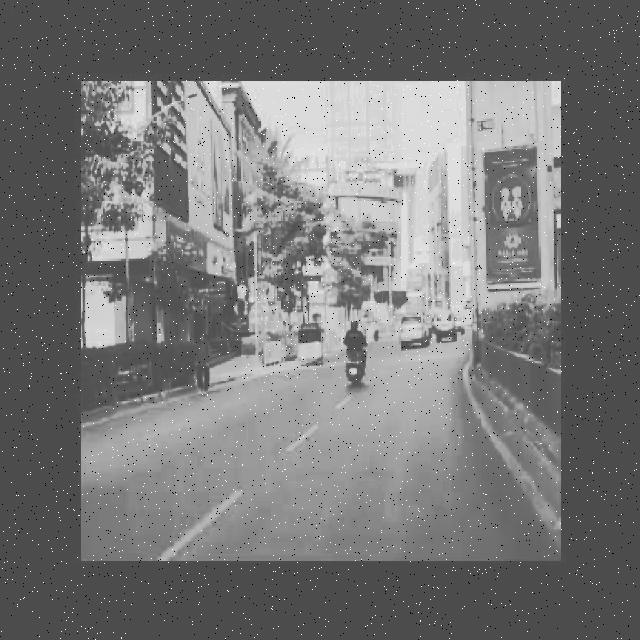Car: (396, 306, 426, 357), (430, 305, 462, 347)
